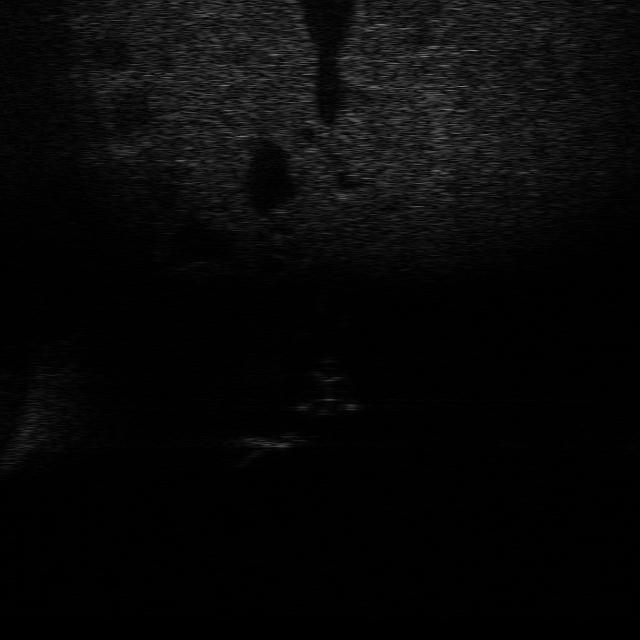ball: (298, 351, 352, 384)
square cage: (228, 424, 314, 459)
tyre: (294, 393, 366, 422)
